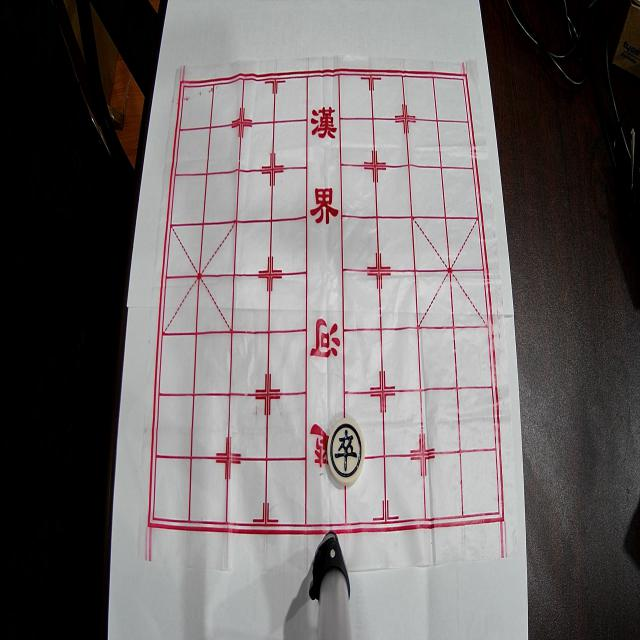black-soldier: (327, 418, 365, 485)
